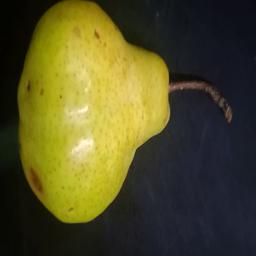Pear Semifresh: (18, 2, 247, 242)
